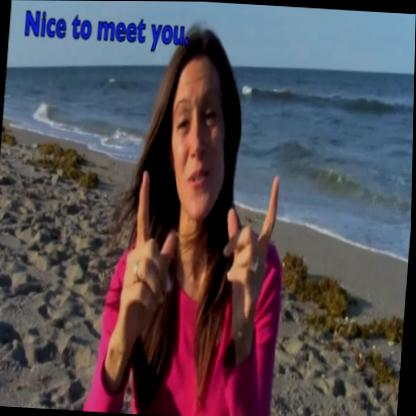NiceToMeetYou: (109, 170, 291, 369)
